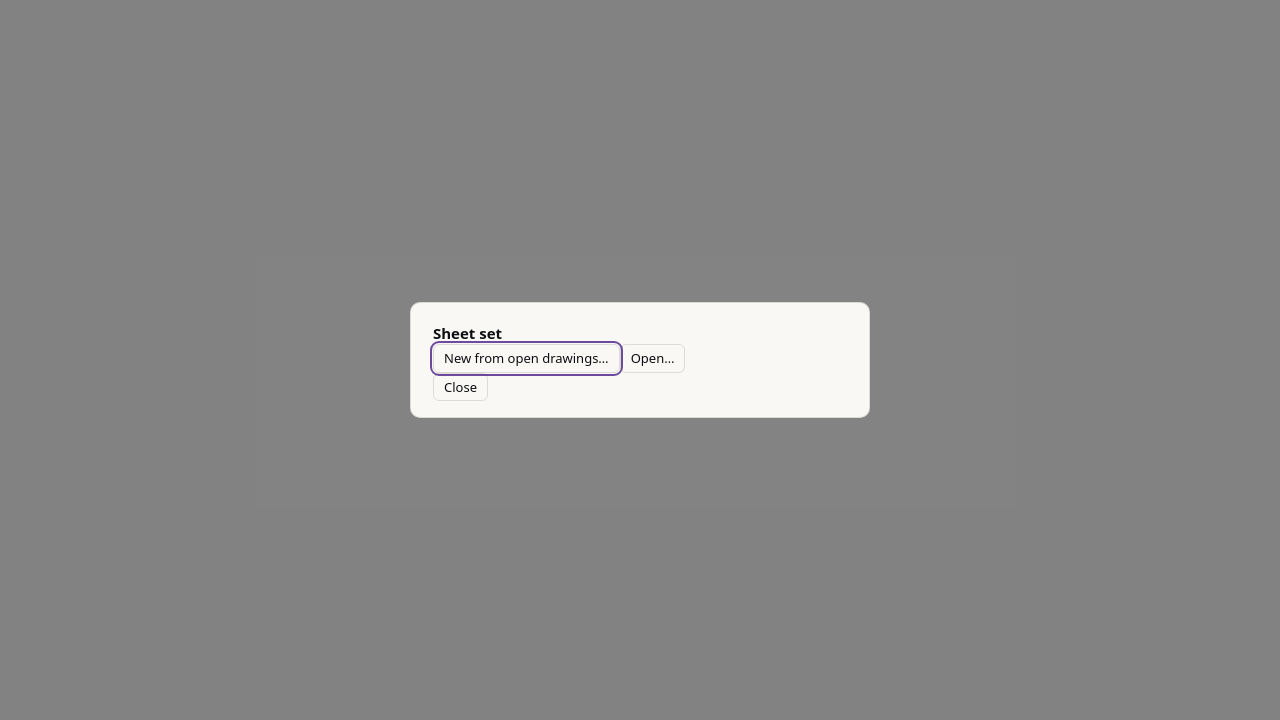
Test case: a sheet set made from the open drawings is written beside them
This screenshot has width=1280, height=720.
Click the button "New from open drawings…": {"x": 526, "y": 358} [433,344,620,372]
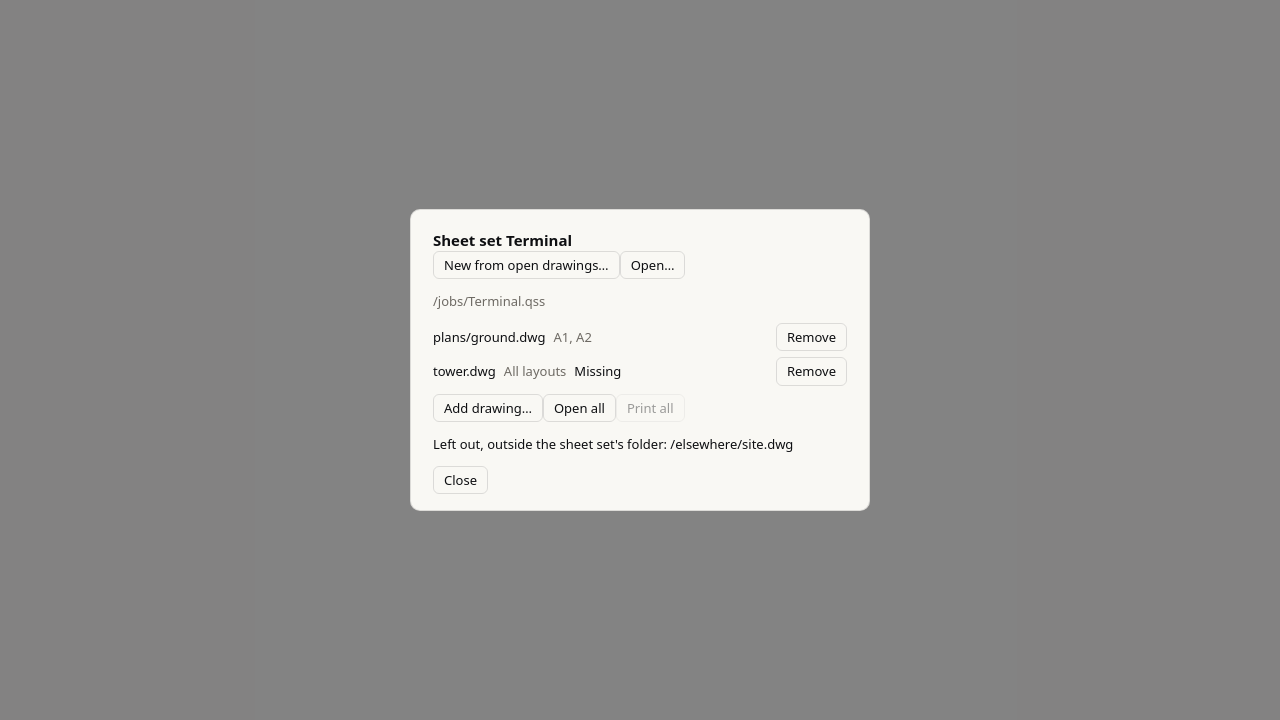
Expected: the number of list items is 2, [433,323,847,351]; [433,357,847,386]
Expected: the list item "plans/ground.dwg A1, A2 Remove" is shown, [433,323,847,351]
Expected: the list item "tower.dwg All layouts Missing Remove" is shown, [433,357,847,386]
